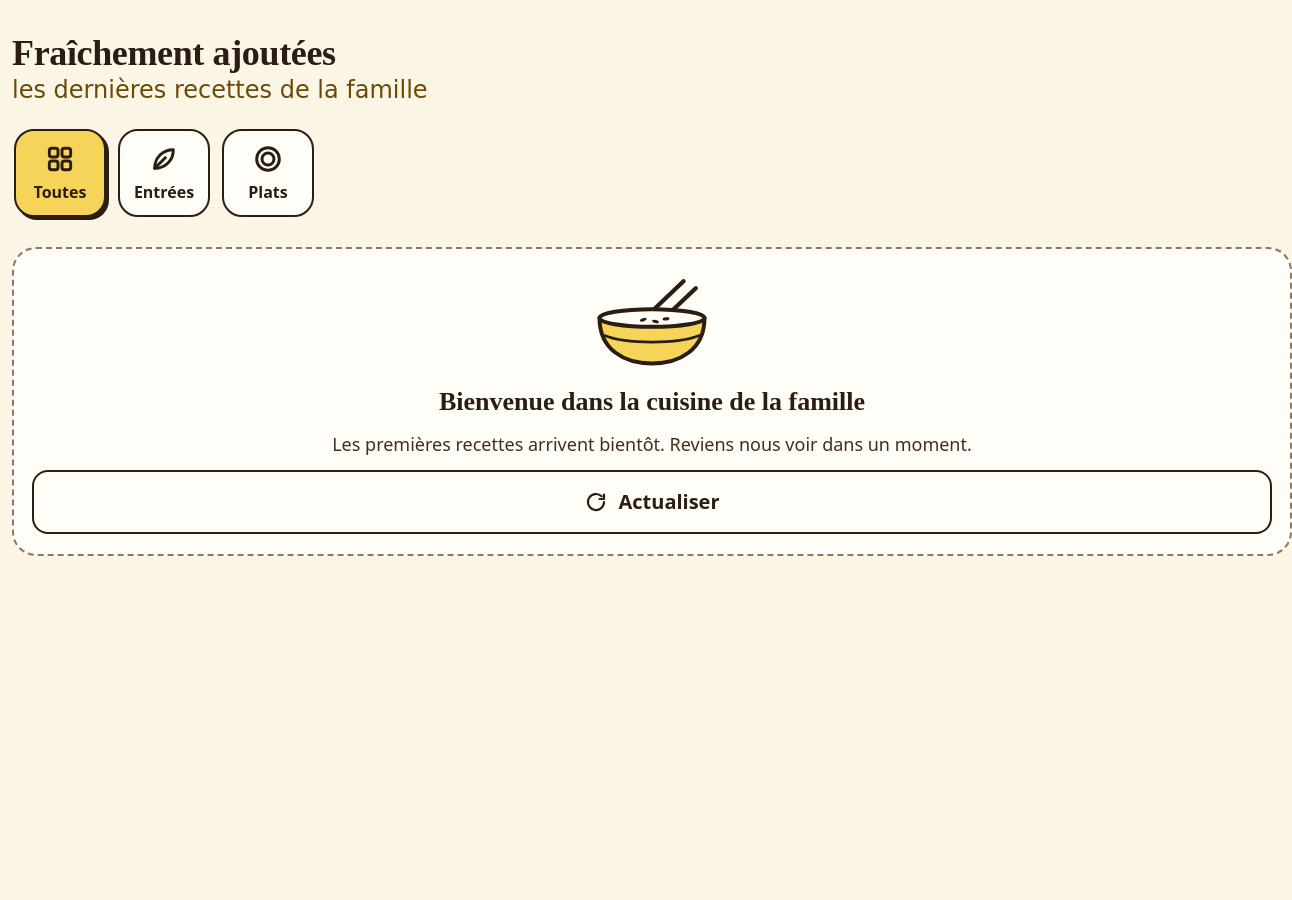
Test case: HomeScreen › with no recipe at all › shows the recipes that arrived when the visitor refreshes
Click the button "Actualiser". click: coordinates (652, 502)
box: [32,470,1272,534]
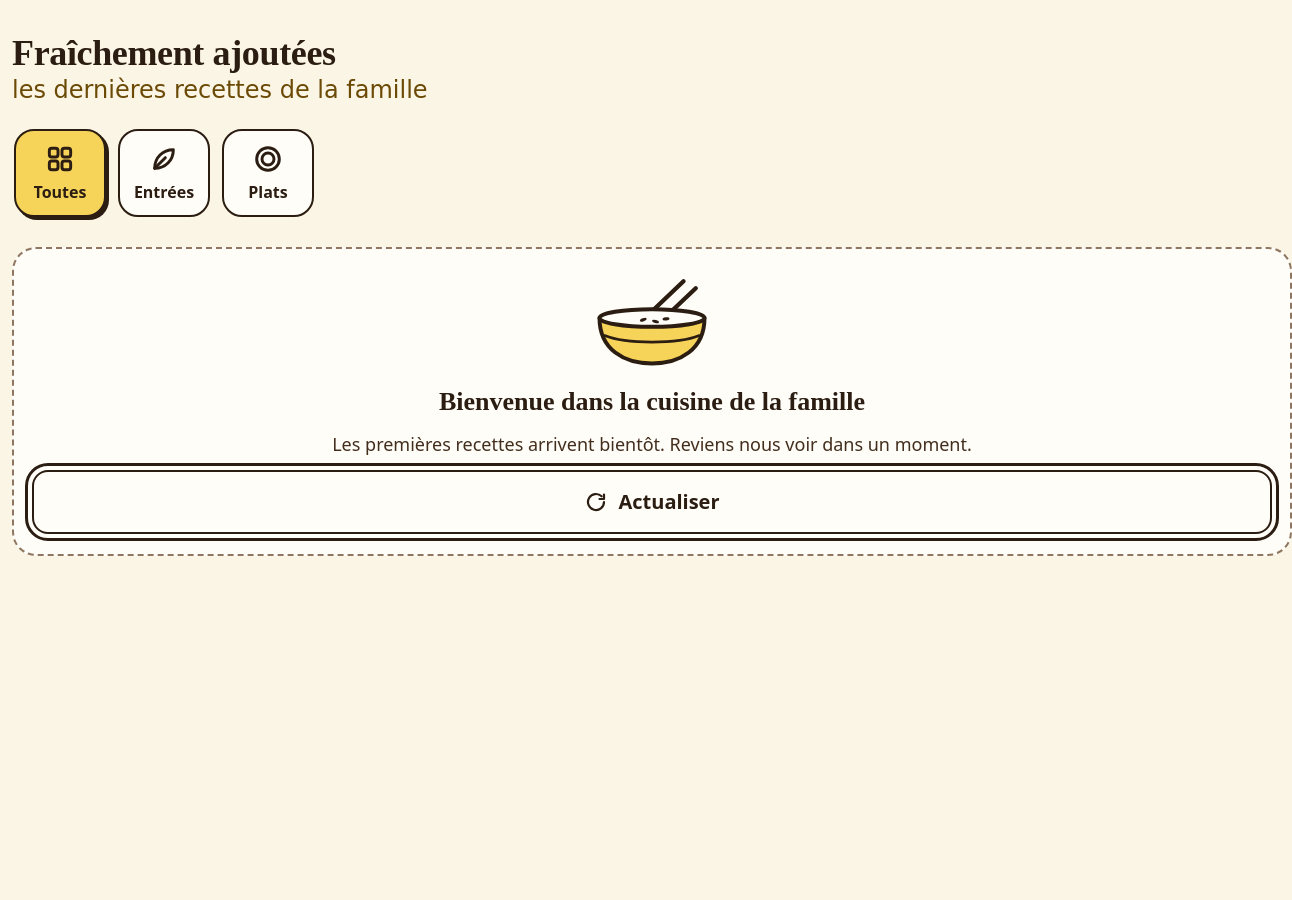
Click the button "Actualiser". click: coordinates (652, 502)
box: [32,470,1272,534]
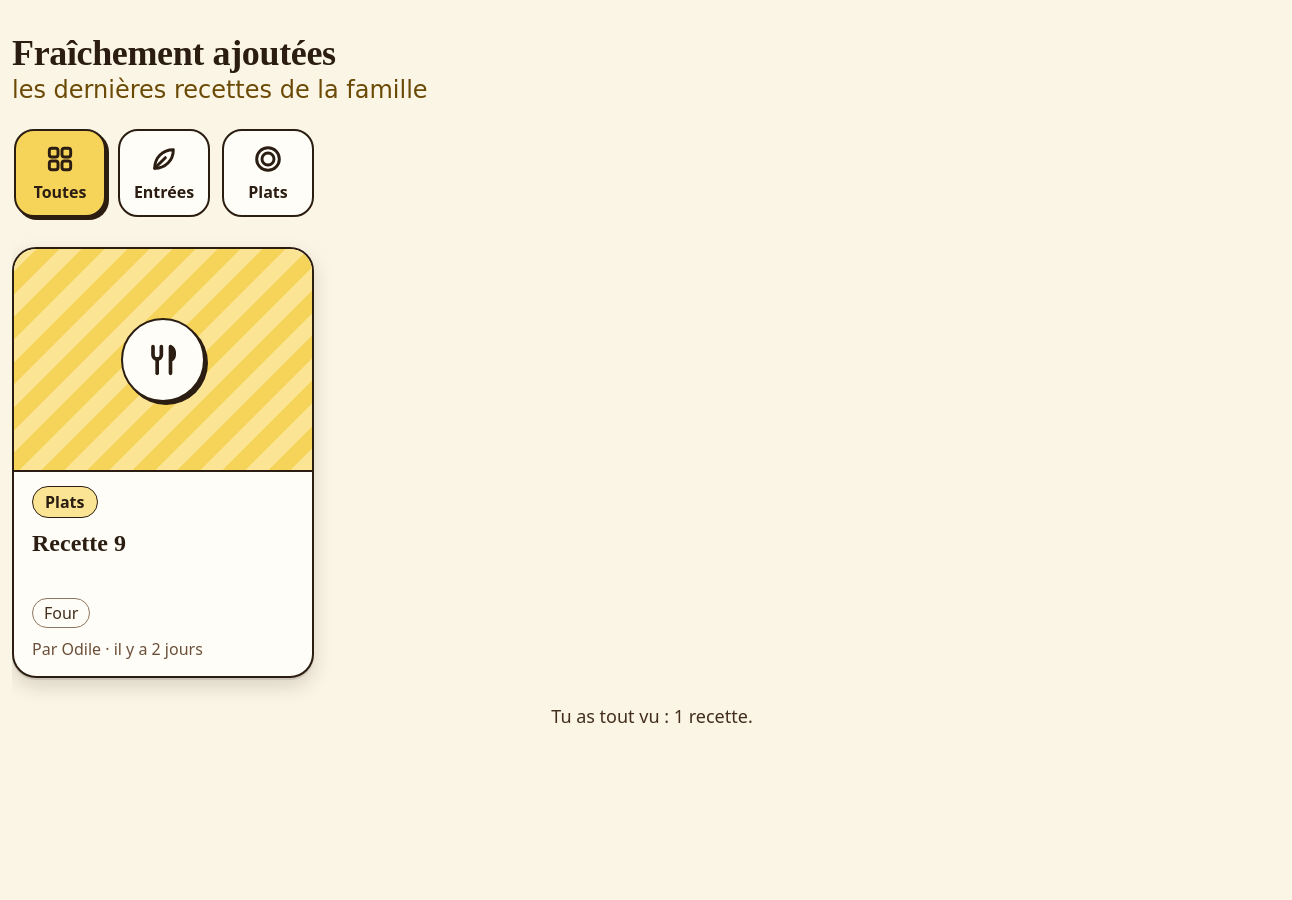
Expected: the link "Recette 9" is shown, [12,247,314,678]
